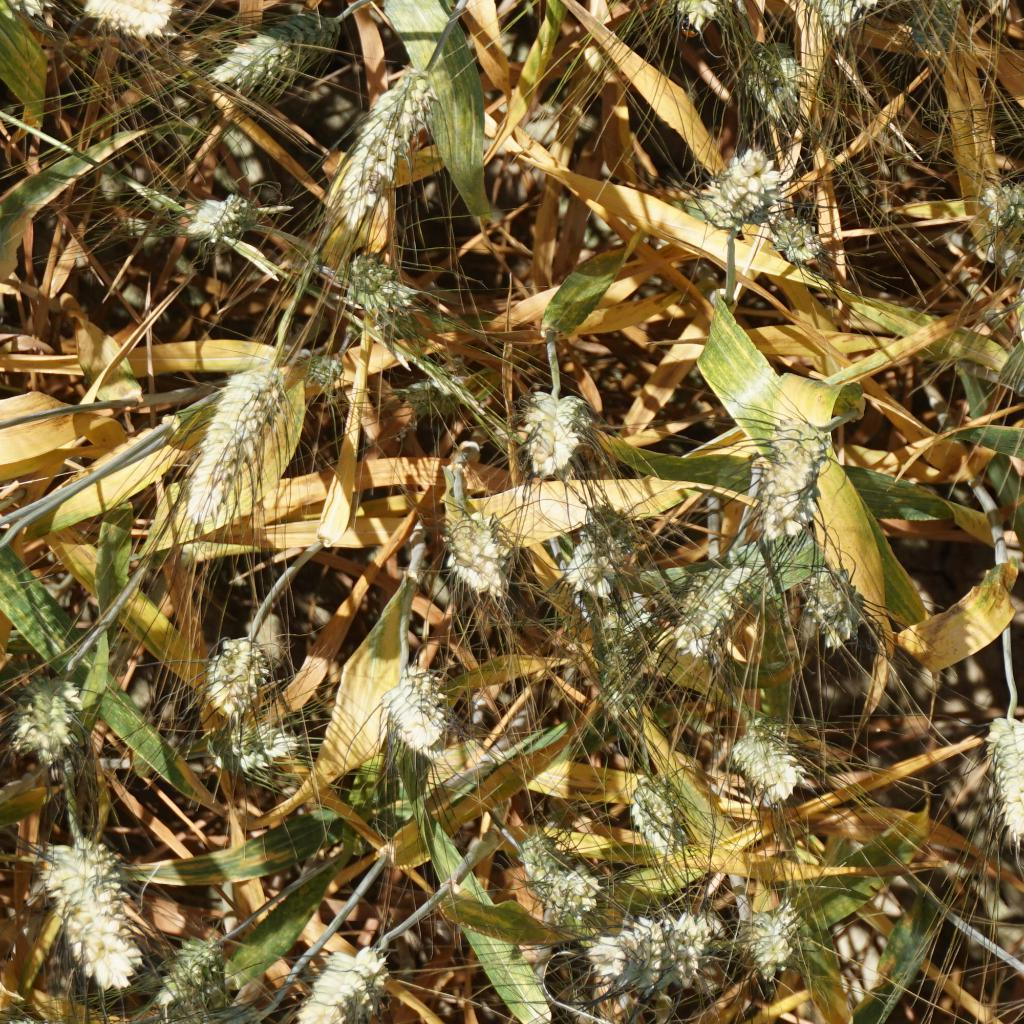0-0: (170, 350, 295, 541), (47, 832, 143, 988), (589, 900, 735, 997), (332, 71, 425, 214), (207, 7, 348, 87), (754, 410, 822, 541), (721, 706, 807, 806), (301, 939, 400, 1024), (694, 143, 784, 235), (668, 549, 747, 651), (509, 381, 587, 480), (520, 837, 606, 922), (805, 558, 875, 657), (382, 669, 455, 760), (338, 245, 423, 322), (734, 899, 802, 988), (626, 767, 694, 854), (180, 185, 259, 258), (737, 35, 807, 117), (979, 706, 1024, 833), (204, 636, 272, 720), (450, 509, 517, 593), (18, 683, 86, 762), (65, 0, 171, 45), (592, 591, 651, 671), (225, 719, 296, 784), (387, 355, 457, 417), (565, 530, 620, 602), (304, 338, 352, 403), (174, 940, 225, 1001), (979, 180, 1024, 246), (778, 206, 824, 270), (780, 0, 850, 40), (650, 0, 732, 28), (919, 0, 969, 35), (0, 0, 61, 19), (1010, 274, 1024, 350)
